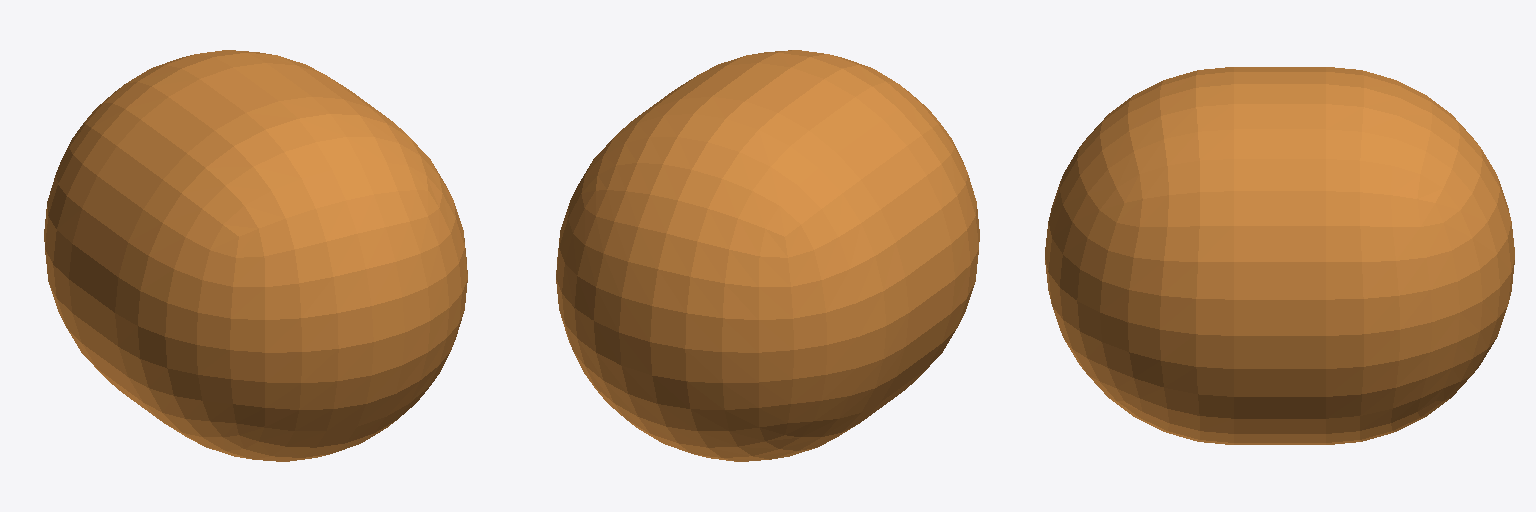
The model's file is CapsuleShorter.obj.
The picture shows the model from 3 angles: view 1: azimuth 30°, elevation 25°; view 2: azimuth 150°, elevation 25°; view 3: azimuth 270°, elevation 25°; orthographic projection.
Parts seen in each view (by area): view 1: CapsuleShorter; view 2: CapsuleShorter; view 3: CapsuleShorter.
Boxes of the visible parts, x1,y1,x2,y2 form: CapsuleShorter: [44, 50, 467, 461]; CapsuleShorter: [556, 50, 979, 461]; CapsuleShorter: [1045, 67, 1514, 444].
Bounding box in the file's own units: 1 × 1 × 1.24.